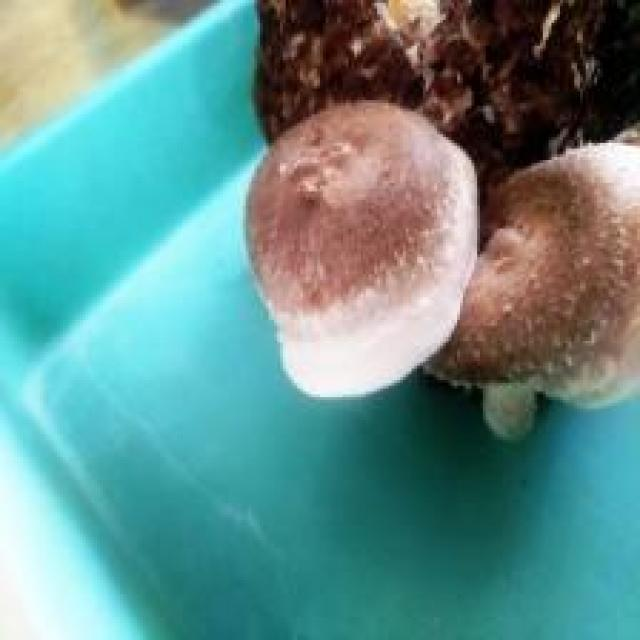field-mushroom: (240, 97, 480, 400)
